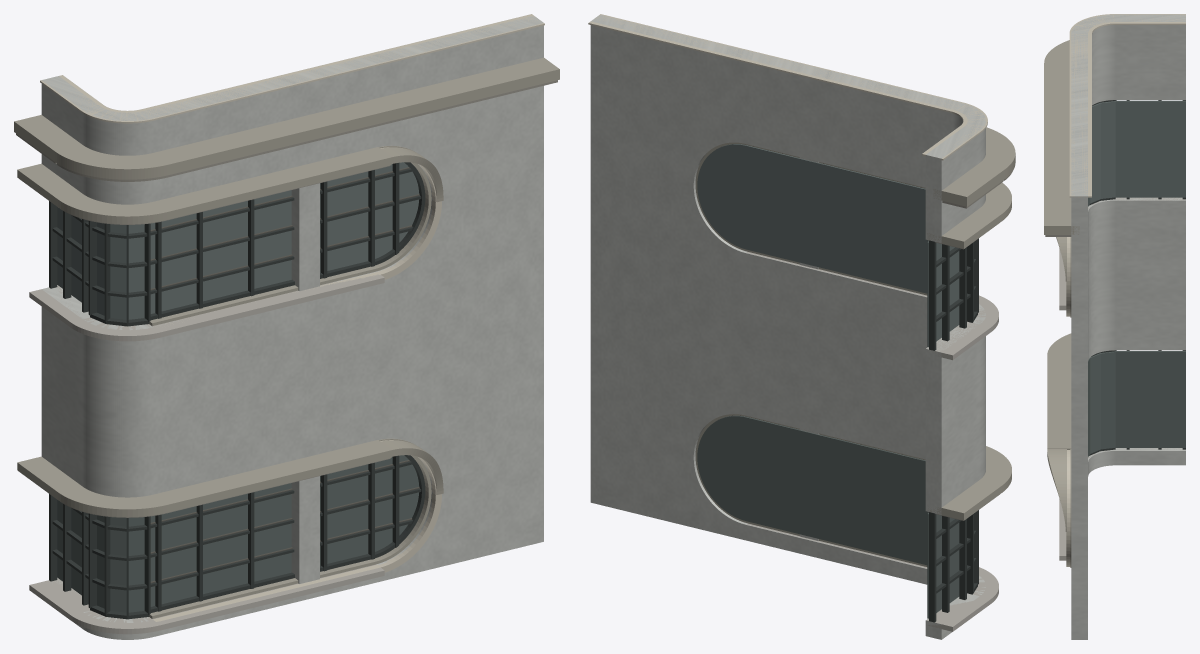
The model's file is rong-garden-windows-near.glb.
3 renders of one model, left to right at view 1: azimuth 30°, elevation 25°; view 2: azimuth 150°, elevation 25°; view 3: azimuth 270°, elevation 25°, orthographic. The views are drawn at different scales.
Parts seen in each view (by area): view 1: 荣氏花园住宅园面双层圆端带窗; view 2: 荣氏花园住宅园面双层圆端带窗; view 3: 荣氏花园住宅园面双层圆端带窗.
Boxes of the visible parts, box(x1,y1,x2,y2) form: 荣氏花园住宅园面双层圆端带窗: box(14, 14, 559, 639); 荣氏花园住宅园面双层圆端带窗: box(588, 14, 1015, 639); 荣氏花园住宅园面双层圆端带窗: box(1044, 14, 1185, 639).
Size of the model in its own units: 5.15 by 5.51 by 1.59.
Materials: 9 (1 with a texture image).
